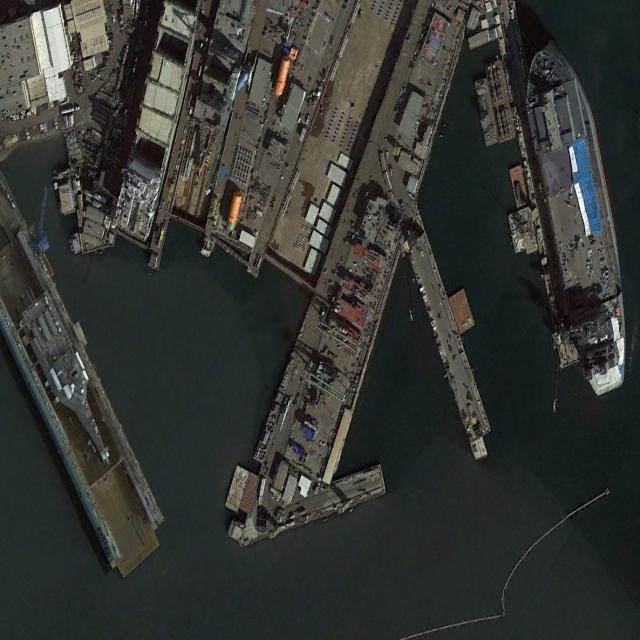Cargo: (514, 35, 640, 402)
Other Ship: (17, 287, 122, 480)
